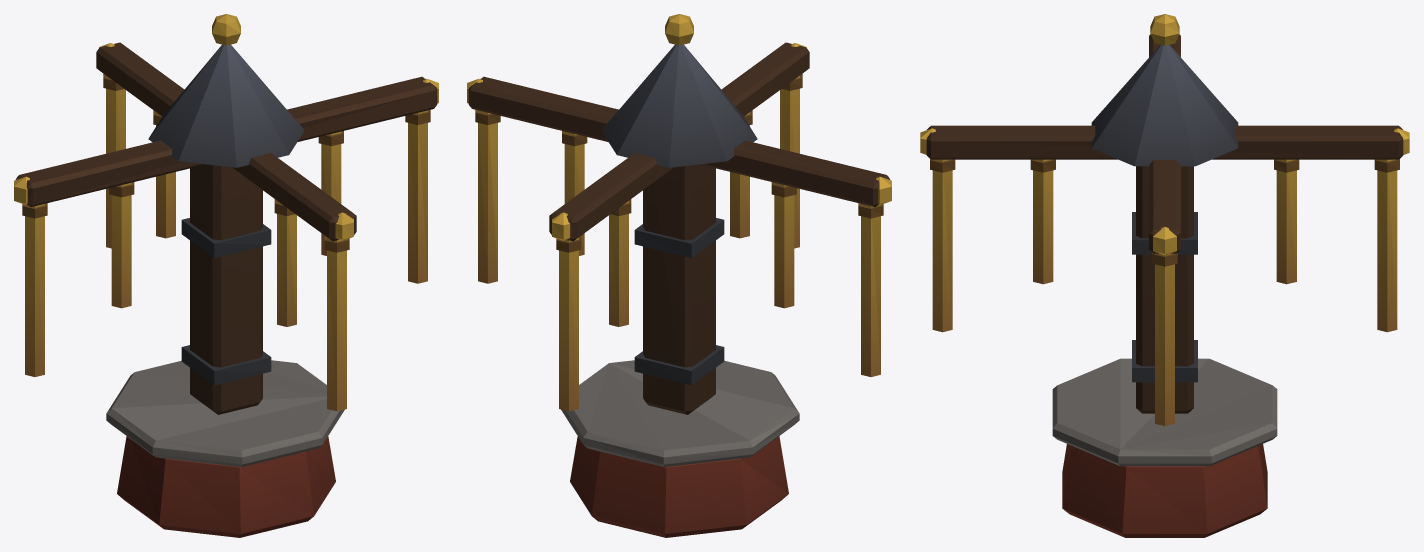
The model's file is long_chime.glb.
The picture shows the model from 3 angles, left to right: view 1: azimuth 30°, elevation 25°; view 2: azimuth 150°, elevation 25°; view 3: azimuth 270°, elevation 25°; orthographic projection.
Parts seen in each view (by area): view 1: long_chime; view 2: long_chime; view 3: long_chime.
Boxes of the visible parts, x1=… form: long_chime: x1=14, y1=14, x2=438, y2=537; long_chime: x1=467, y1=14, x2=891, y2=537; long_chime: x1=920, y1=14, x2=1409, y2=537.
Bounding box in the file's own units: 0.932 × 1.01 × 0.925.
